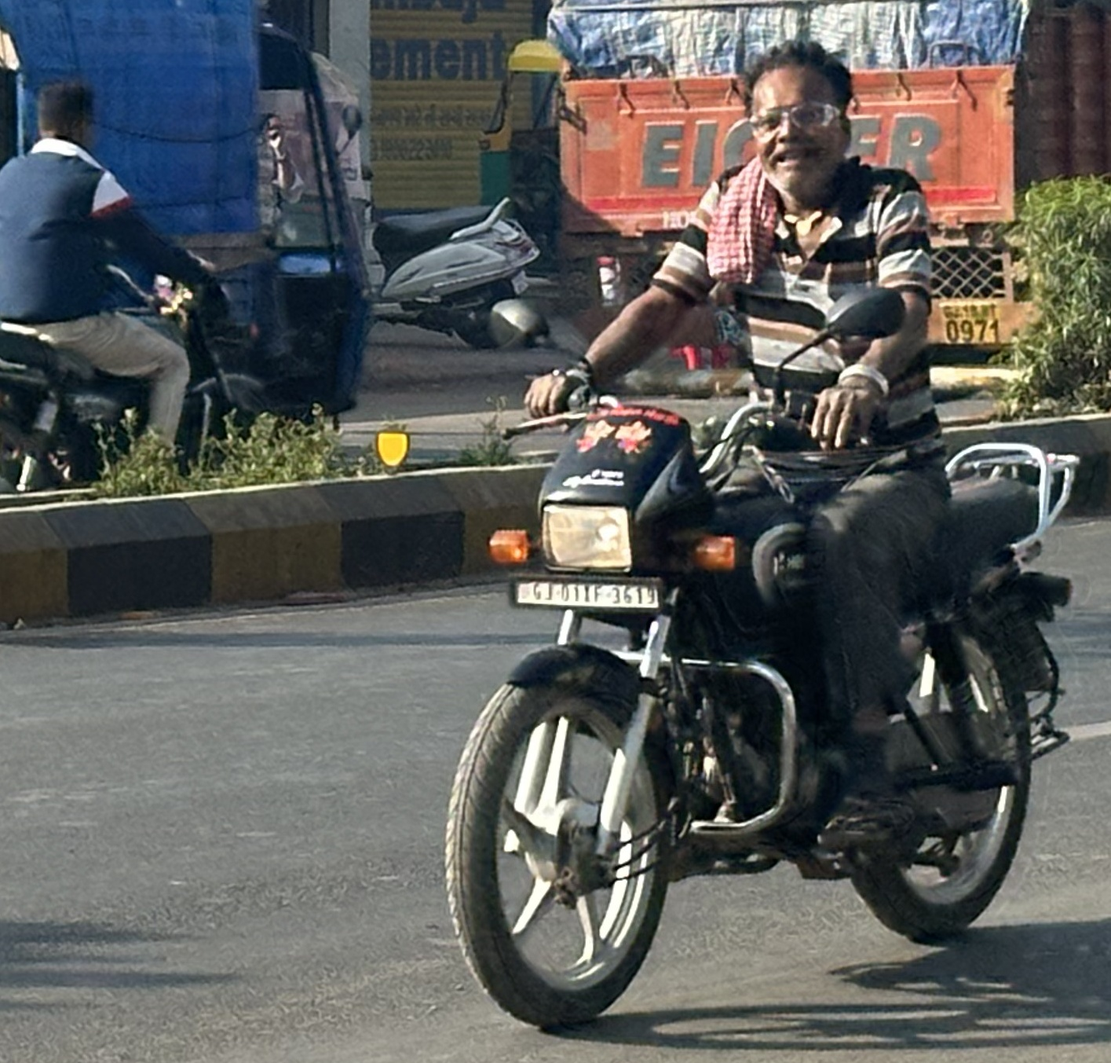BikeWithRider: (425, 27, 1096, 1046), (0, 83, 272, 490)
NoHelmet: (729, 31, 873, 192), (31, 82, 104, 146)
